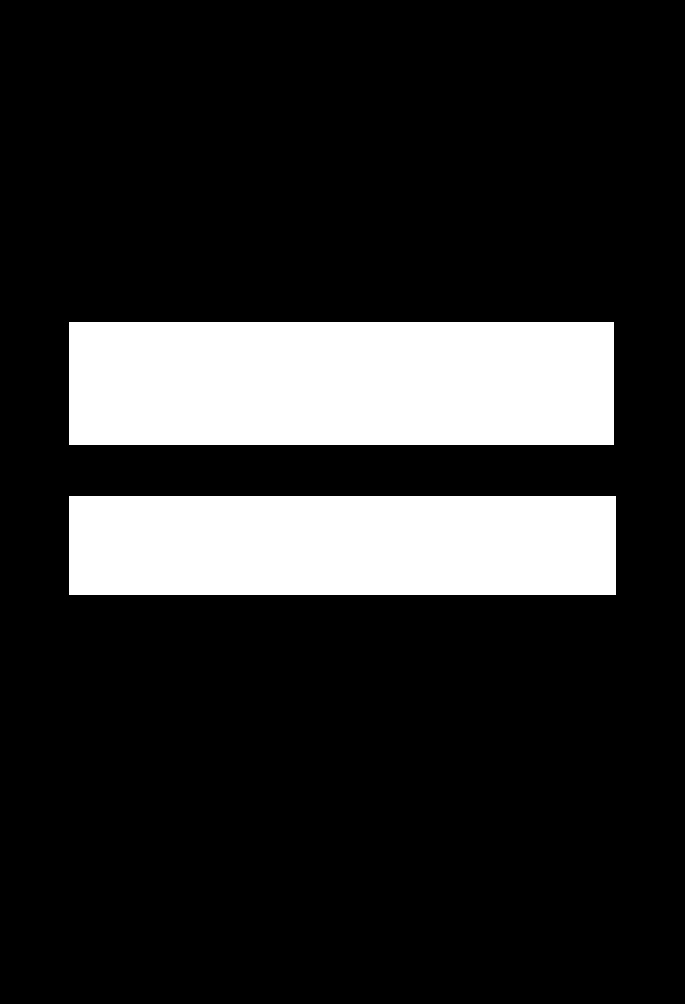table: (69, 322, 613, 444), (69, 496, 615, 594)
